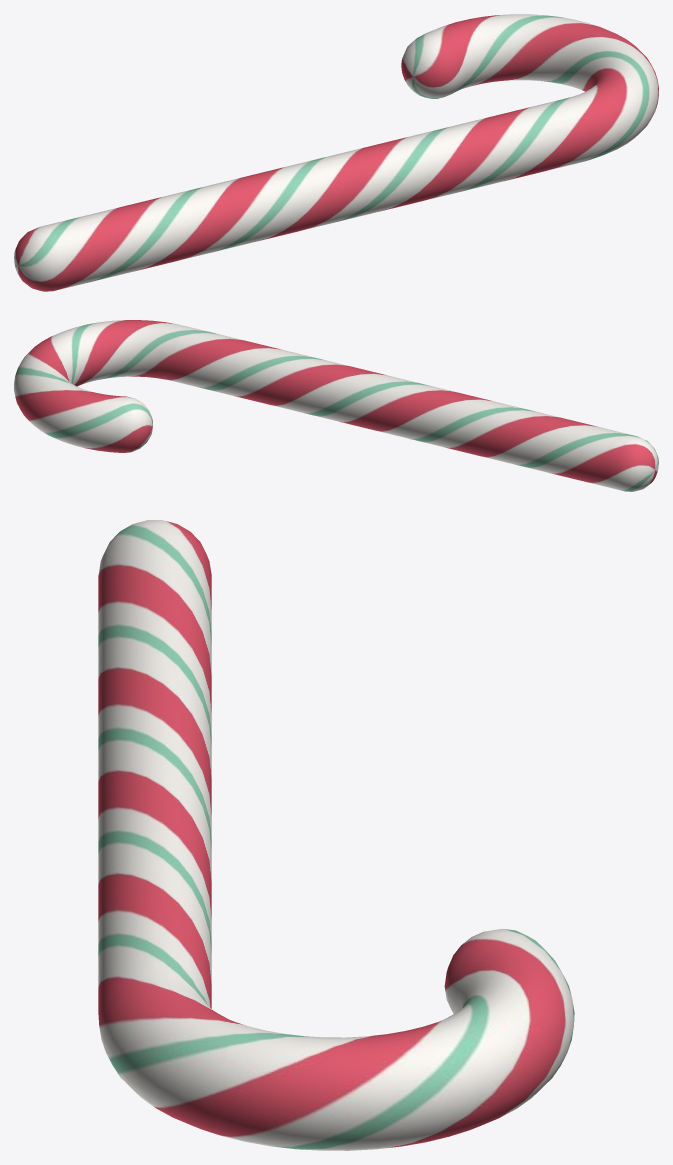
File: jengibre.glb
The picture shows the model from 3 angles, top to bottom: view 1: azimuth 30°, elevation 25°; view 2: azimuth 150°, elevation 25°; view 3: azimuth 270°, elevation 25°; orthographic projection. The views are drawn at different scales.
Parts seen in each view (by area): view 1: candy-cane_body; view 2: candy-cane_body; view 3: candy-cane_body.
Boxes of the visible parts, <box> form: candy-cane_body: <box>14,14,658,291</box>; candy-cane_body: <box>14,320,658,491</box>; candy-cane_body: <box>98,520,574,1150</box>.
Size of the model in its own units: 0.1512 by 0.0127 by 0.0538.
1 material, 1 textured.
